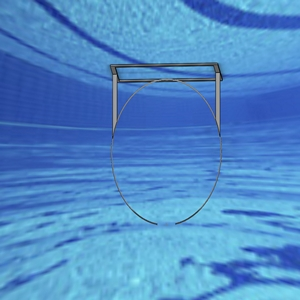circle: (109, 59, 224, 229)
